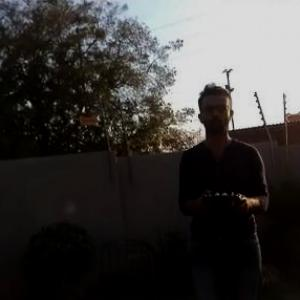follow: (176, 72, 275, 299)
